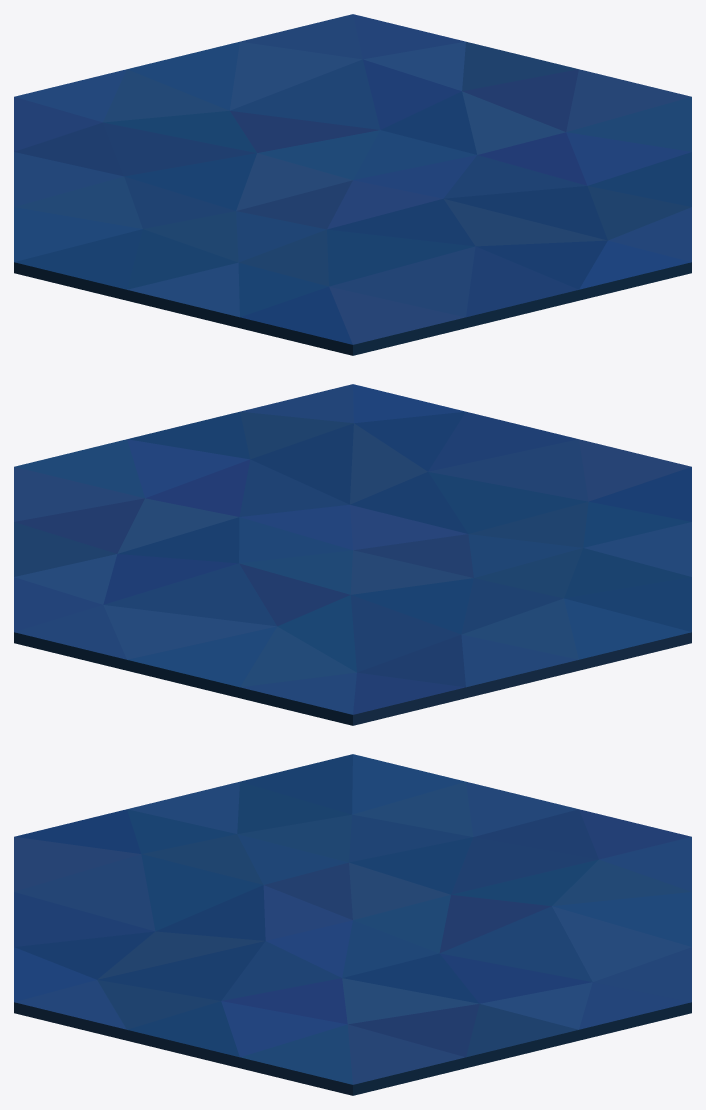
Rendered from Ocean.glb.
3 views of the same model, one above another, from view 1: azimuth 30°, elevation 25°; view 2: azimuth 150°, elevation 25°; view 3: azimuth 270°, elevation 25° (orthographic).
Parts seen in each view (by area): view 1: Ocean; view 2: Ocean; view 3: Ocean.
Boxes of the visible parts, left/top/right/bottom form: Ocean: left=14, top=14, right=691, bottom=355; Ocean: left=14, top=384, right=691, bottom=725; Ocean: left=14, top=754, right=691, bottom=1095.
Bounding box in the file's own units: 1.94 × 0.0358 × 1.68.
